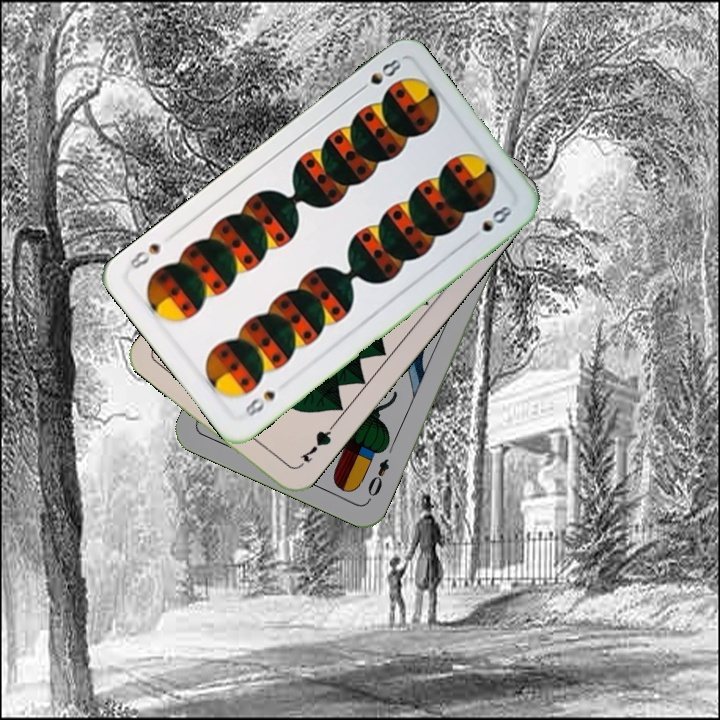EO: (363, 454, 392, 499)
G7: (293, 421, 336, 471)
S8: (352, 55, 405, 97), (241, 386, 278, 420)
